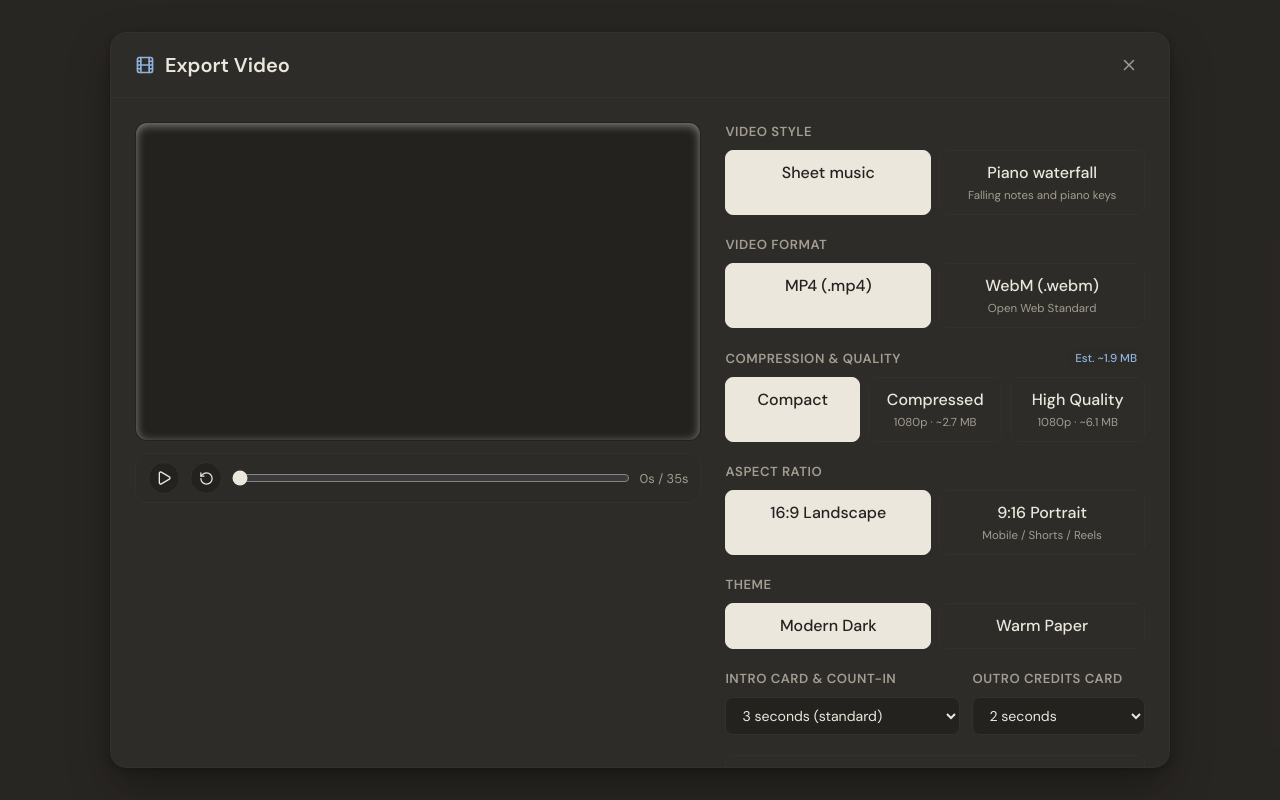
Test: ScoreVideoExportModal › requires score source for waterfall instead of exporting an empty keyboard
Click the button "Piano waterfall Falling notes and piano keys".
click(1042, 182)  # box 939,150 -> 1145,215
(page scrolled)
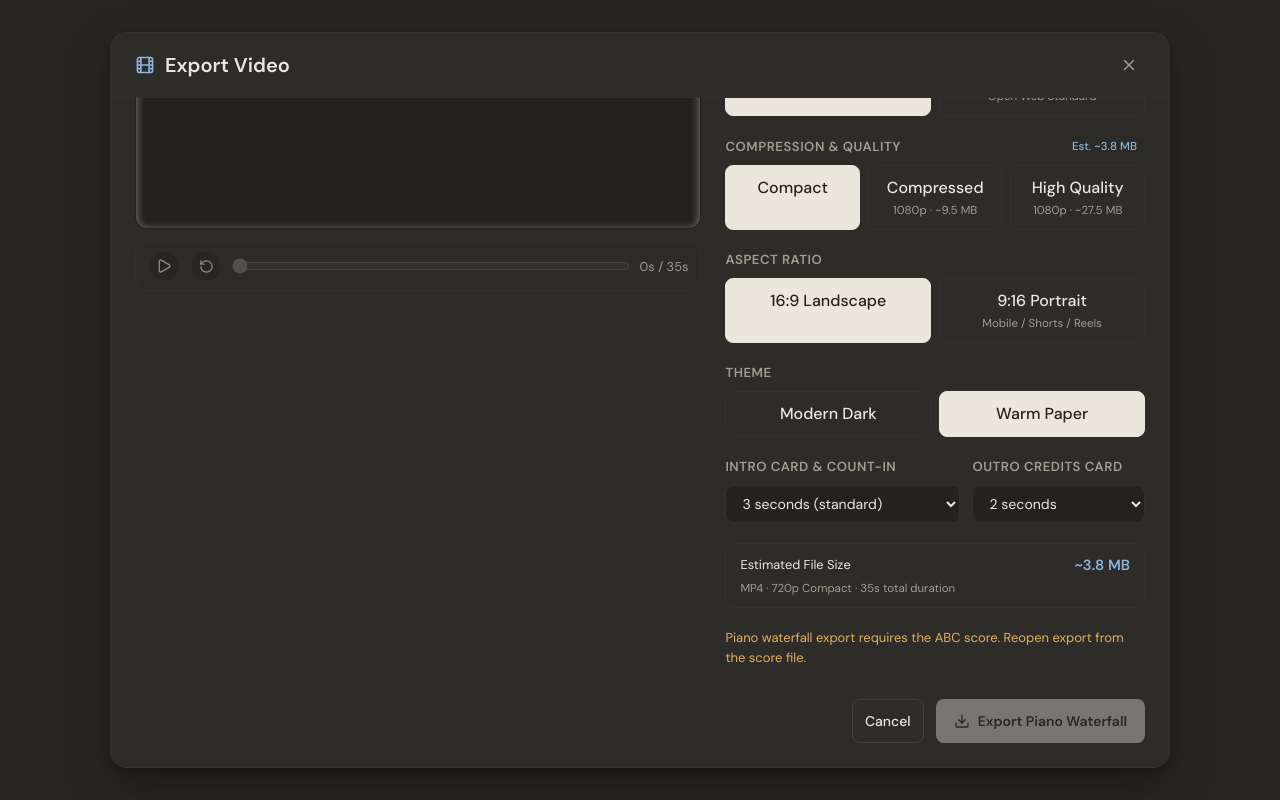
Result: the message shows "requires the ABC score" at 725,629 -> 1124,666
Result: the button "Export Piano Waterfall" is disabled at 936,699 -> 1145,743
